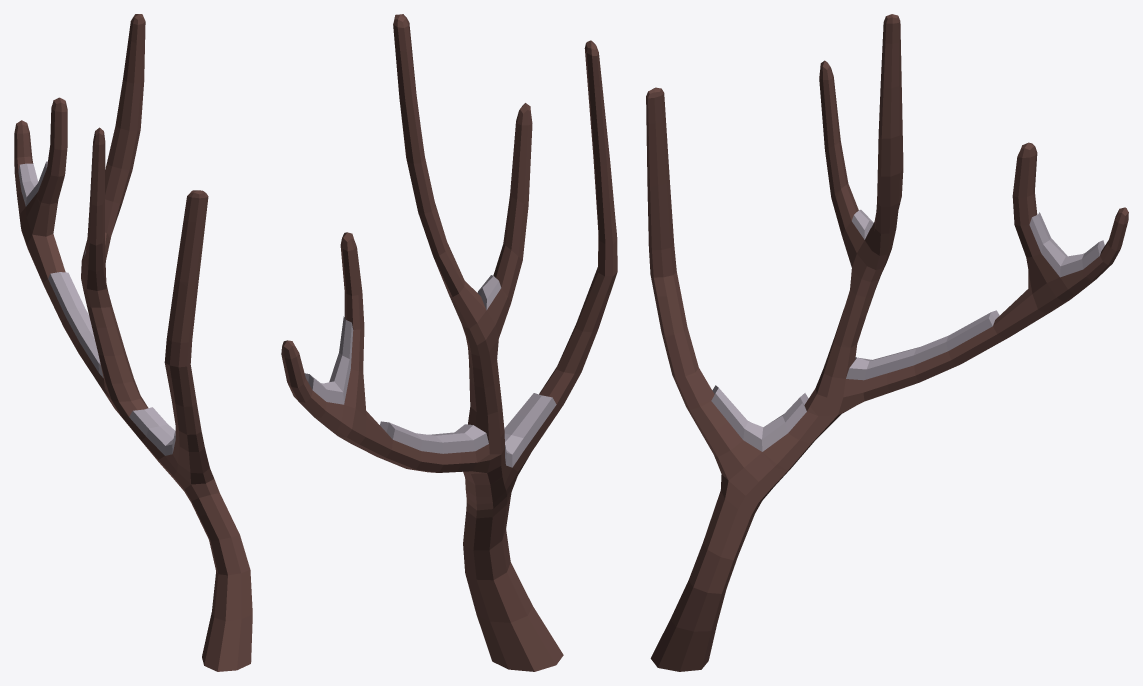
Rendered from Willow_Dead_Snow_1.gltf.
3 renders of one model, left to right at view 1: azimuth 30°, elevation 25°; view 2: azimuth 150°, elevation 25°; view 3: azimuth 270°, elevation 25°, orthographic. The views are drawn at different scales.
Parts seen in each view (by area): view 1: Willow_Dead_Snow_1; view 2: Willow_Dead_Snow_1; view 3: Willow_Dead_Snow_1.
Boxes of the visible parts, x1=… form: Willow_Dead_Snow_1: x1=14, y1=14, x2=252, y2=671; Willow_Dead_Snow_1: x1=281, y1=14, x2=617, y2=671; Willow_Dead_Snow_1: x1=646, y1=14, x2=1128, y2=671.
Bounding box in the file's own units: 0.4992 × 2.69 × 1.81.
